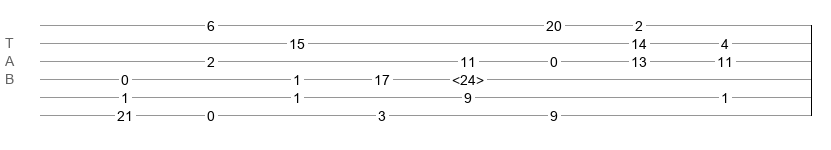0: (121, 72, 129, 82), (207, 108, 215, 118), (550, 54, 558, 64)
1: (121, 90, 129, 100), (293, 90, 301, 100), (293, 72, 301, 82), (721, 90, 729, 100)
11: (460, 54, 476, 64), (717, 54, 733, 64)
13: (631, 54, 647, 64)
14: (631, 36, 647, 46)
15: (289, 36, 305, 46)
17: (374, 72, 390, 82)
2: (207, 54, 215, 64), (635, 18, 643, 28)
20: (546, 18, 562, 28)
21: (117, 108, 133, 118)
3: (378, 108, 386, 118)
4: (721, 36, 729, 46)
6: (207, 18, 215, 28)
9: (464, 90, 472, 100), (550, 108, 558, 118)
harmonic: (452, 72, 484, 82)
